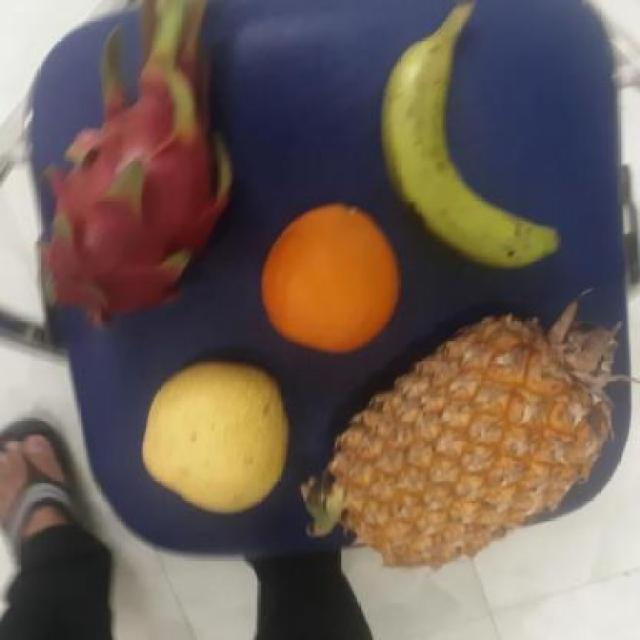banana: (382, 15, 544, 262)
dragon fruit: (44, 13, 231, 330)
oren: (263, 199, 405, 352)
pear: (140, 357, 295, 518)
pineapple: (327, 315, 625, 576)
